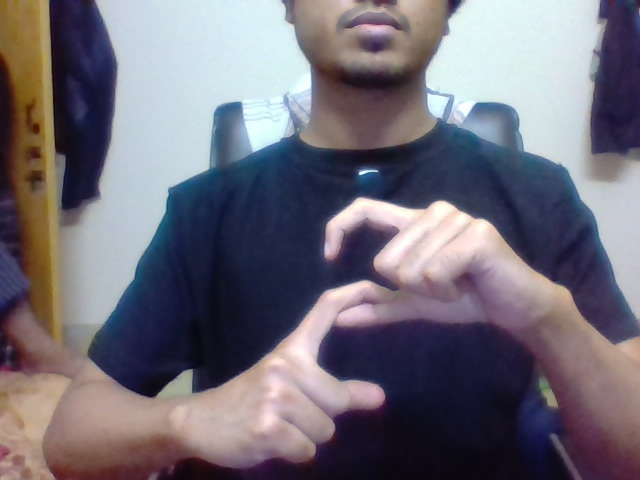S: (313, 193, 405, 416)
